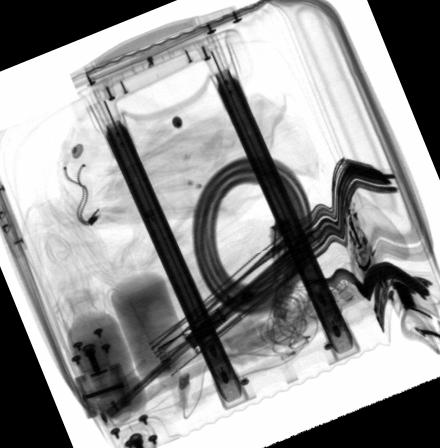Knife: (310, 262, 431, 301)
